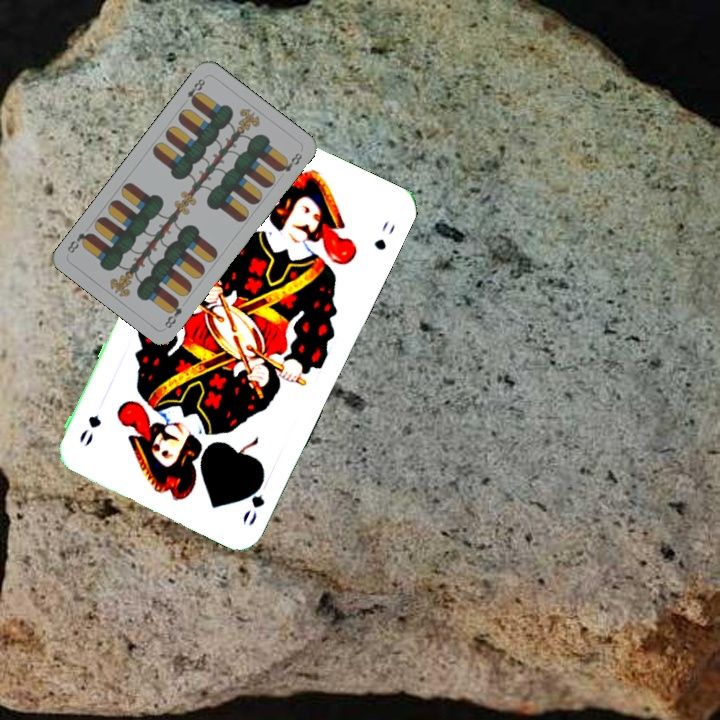E8: (179, 74, 208, 108), (160, 296, 185, 331)
GO: (238, 470, 268, 529)
